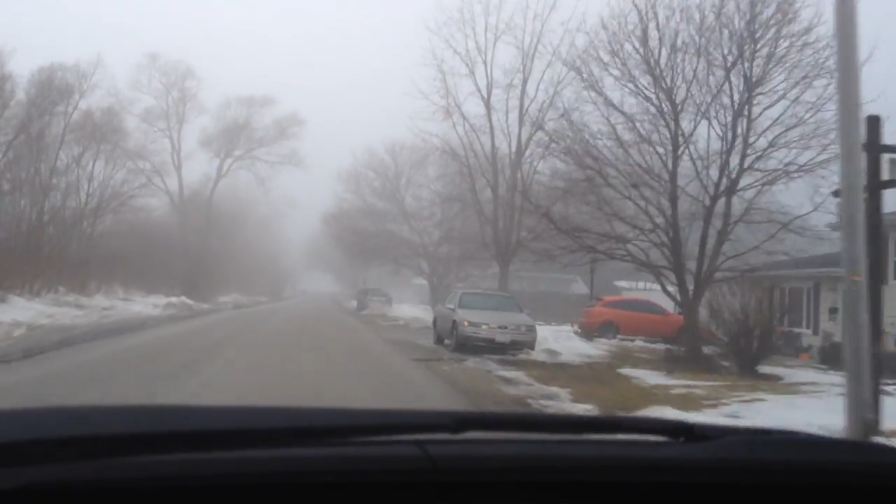car: (431, 288, 539, 353), (576, 294, 698, 341), (354, 285, 393, 311)
